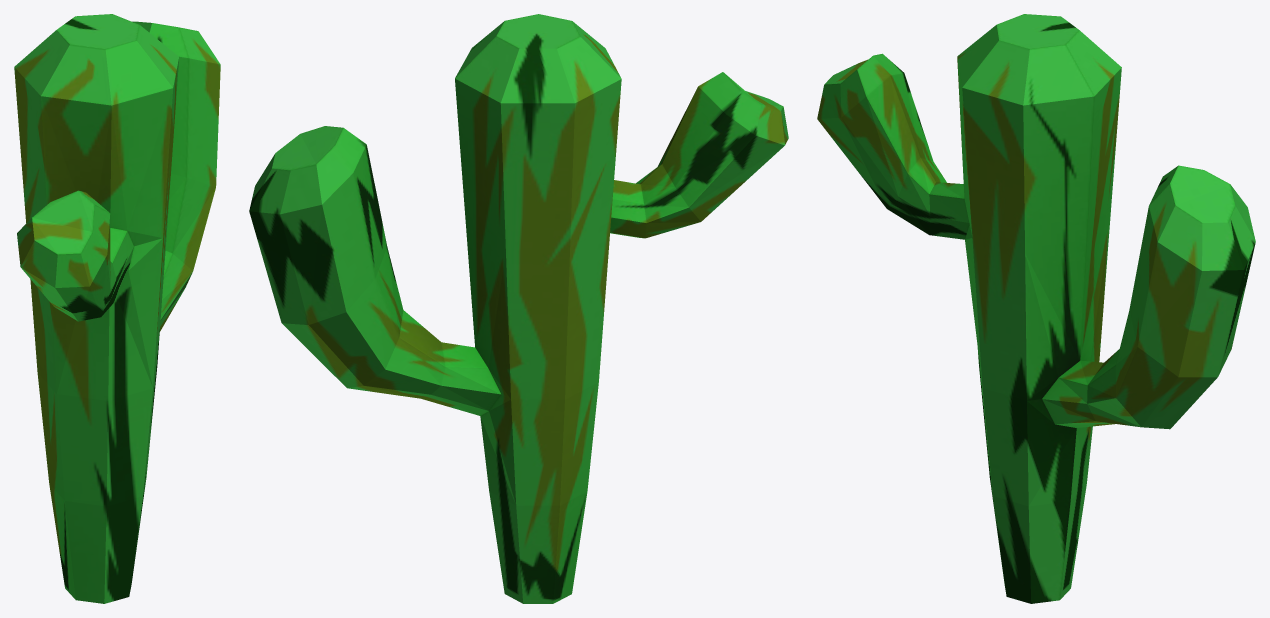
File: Snowcactus.FBX
The picture shows the model from 3 angles, left to right: view 1: azimuth 30°, elevation 25°; view 2: azimuth 150°, elevation 25°; view 3: azimuth 270°, elevation 25°; orthographic projection.
Visible parts, largest first — view 1: cactus; view 2: cactus; view 3: cactus.
Boxes of the visible parts, x1,y1,x2,y2 form: cactus: (14,14,220,603); cactus: (249,14,788,603); cactus: (817,14,1255,603).
Bounding box in the file's own units: 4.53 × 6.65 × 4.74.
